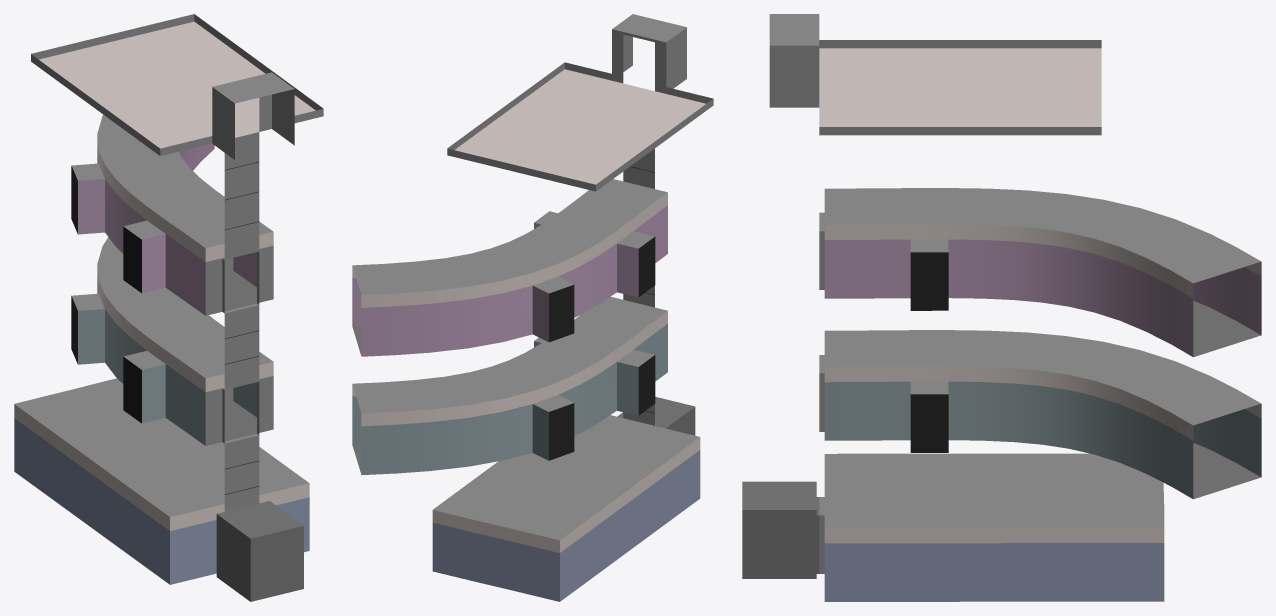
File: Elevator_level 1.fbx
The picture shows the model from 3 angles, left to right: view 1: azimuth 30°, elevation 25°; view 2: azimuth 150°, elevation 25°; view 3: azimuth 270°, elevation 25°; orthographic projection. The views are drawn at different scales.
Visible parts, largest first — view 1: 3rd floor, Elevator; view 2: 3rd floor, Elevator; view 3: 3rd floor, Elevator.
Part boxes in pixels (x1,y1,x2,y2): 3rd floor: [14, 14, 323, 584]; Elevator: [216, 501, 303, 601]; 3rd floor: [352, 14, 713, 601]; Elevator: [617, 397, 695, 435]; 3rd floor: [769, 14, 1261, 601]; Elevator: [742, 481, 819, 578].
Bounding box in the file's own units: 1380 × 2862 × 2517.
